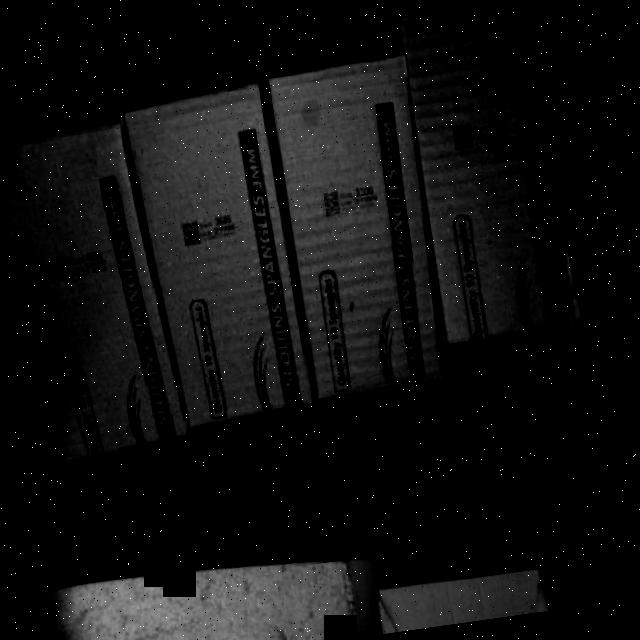box: (126, 92, 318, 426), (0, 125, 183, 468), (272, 58, 446, 406), (402, 0, 576, 341)
